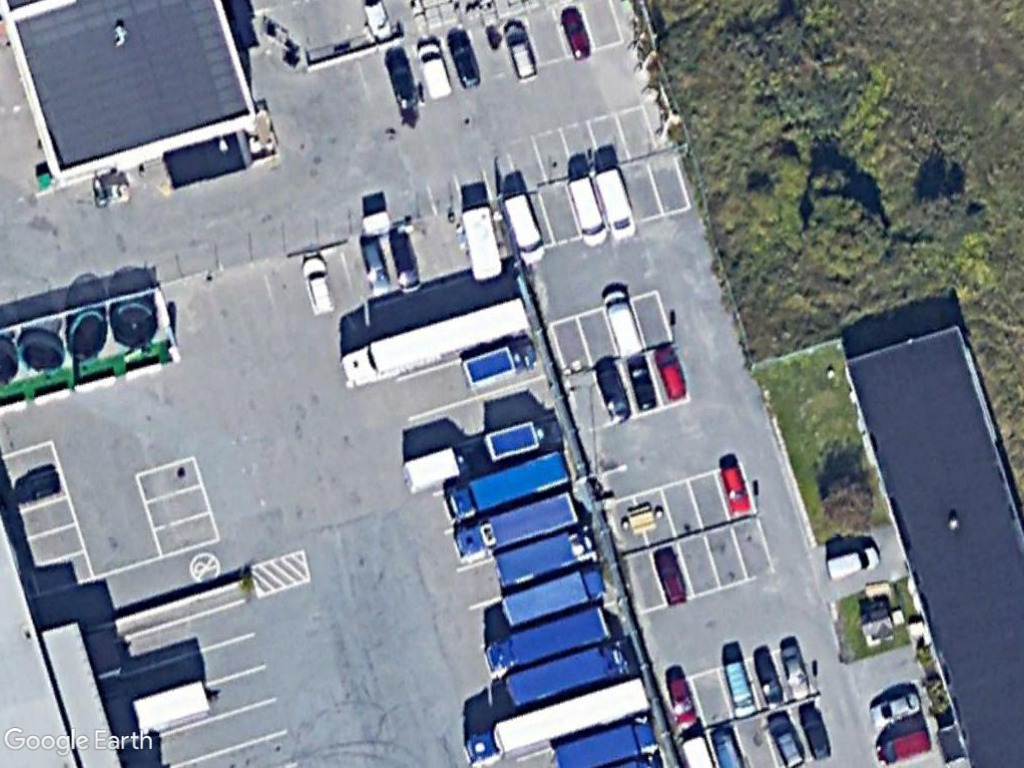car: (441, 21, 489, 94), (499, 15, 542, 90), (296, 247, 339, 322), (622, 348, 665, 414), (778, 637, 817, 709), (557, 5, 600, 67), (651, 543, 692, 608), (664, 666, 702, 735), (715, 459, 755, 524), (651, 336, 689, 404)
longvehicle: (458, 669, 655, 768)
truck: (337, 286, 534, 391), (497, 633, 642, 712), (448, 478, 580, 564), (479, 598, 619, 677), (440, 444, 576, 525), (489, 521, 603, 590), (496, 563, 615, 626)
van: (589, 159, 642, 243), (563, 164, 613, 252), (497, 186, 550, 267), (598, 283, 648, 362), (413, 35, 457, 110), (820, 540, 886, 586), (721, 656, 761, 723)
